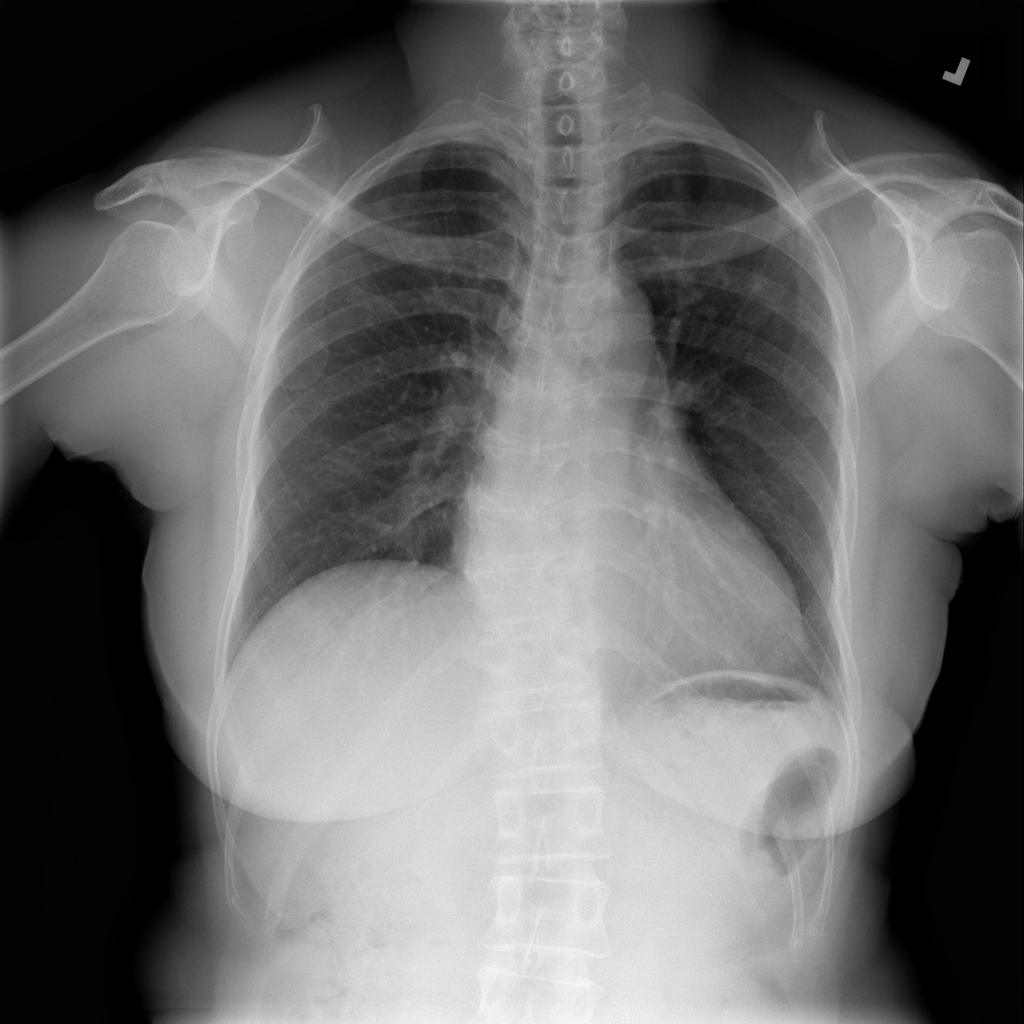nodule: (730, 258, 781, 307)
